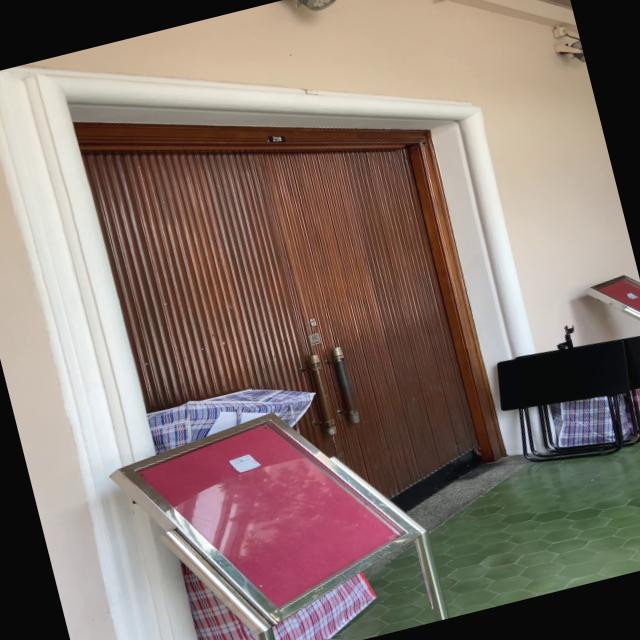room218: (266, 130, 286, 146)
